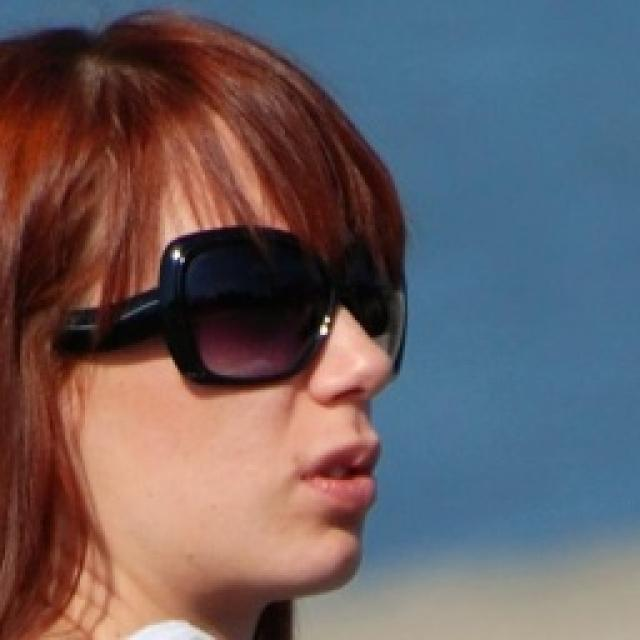glasses: (70, 225, 423, 411)
